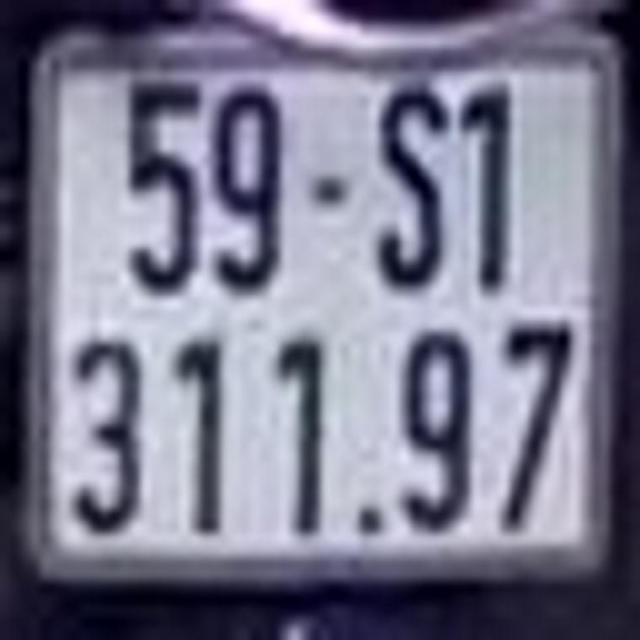1: (462, 85, 514, 292), (175, 343, 225, 530), (279, 334, 321, 536)
3: (72, 342, 139, 532)
5: (131, 82, 197, 293)
7: (498, 324, 572, 530)
9: (396, 326, 472, 536), (212, 93, 280, 284)
S: (371, 86, 442, 286)
